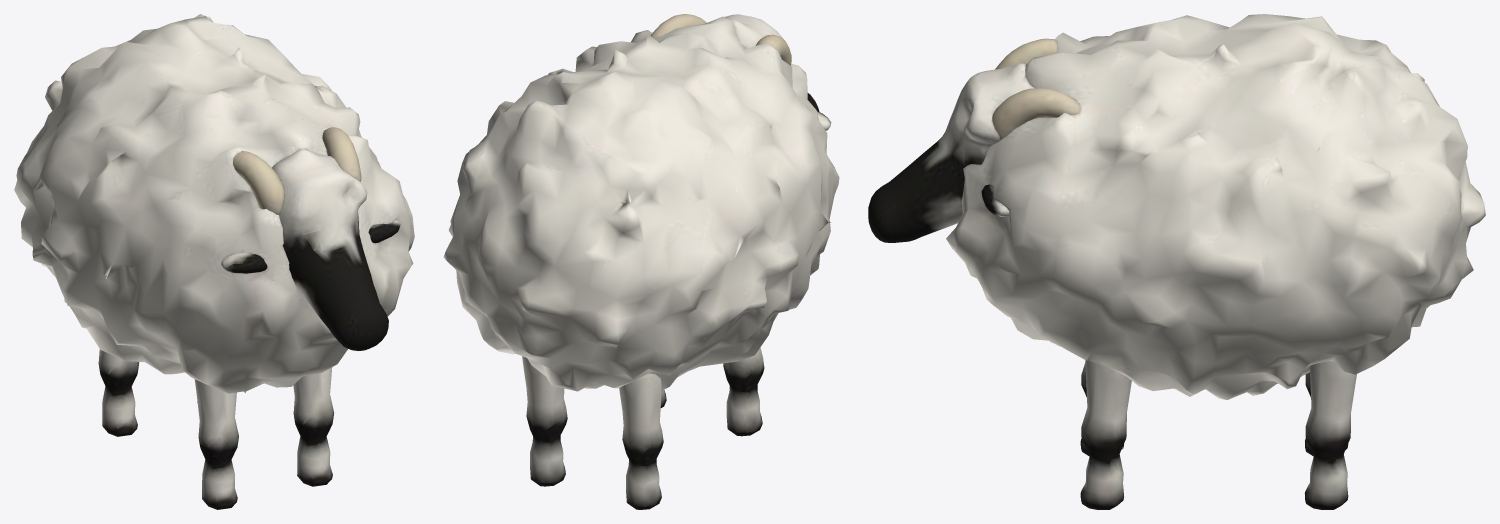
Rendered from animal_valais_blacknose.glb.
3 views of the same model, side by side, from view 1: azimuth 30°, elevation 25°; view 2: azimuth 150°, elevation 25°; view 3: azimuth 270°, elevation 25° (orthographic). The views are drawn at different scales.
Visible parts, largest first — view 1: animal_valais_blacknose, head, leg0, leg1, leg2; view 2: animal_valais_blacknose, leg2, leg3, leg0, head; view 3: animal_valais_blacknose, head, leg3, leg1.
Part boxes in pixels (x1,y1,x2,y2): animal_valais_blacknose: (14,14,414,393); head: (221,127,400,350); leg0: (194,379,238,509); leg1: (293,367,334,486); leg2: (98,349,139,436); animal_valais_blacknose: (443,16,839,391); leg2: (619,373,663,509); leg3: (522,356,567,486); leg0: (723,347,764,436); head: (650,14,831,130); animal_valais_blacknose: (946,14,1485,399); head: (868,38,1080,242); leg3: (1304,361,1356,509); leg1: (1080,360,1131,509).
Size of the model in its own units: 0.3617 by 0.4513 by 0.5511.
Materials: 1 (1 with a texture image).
